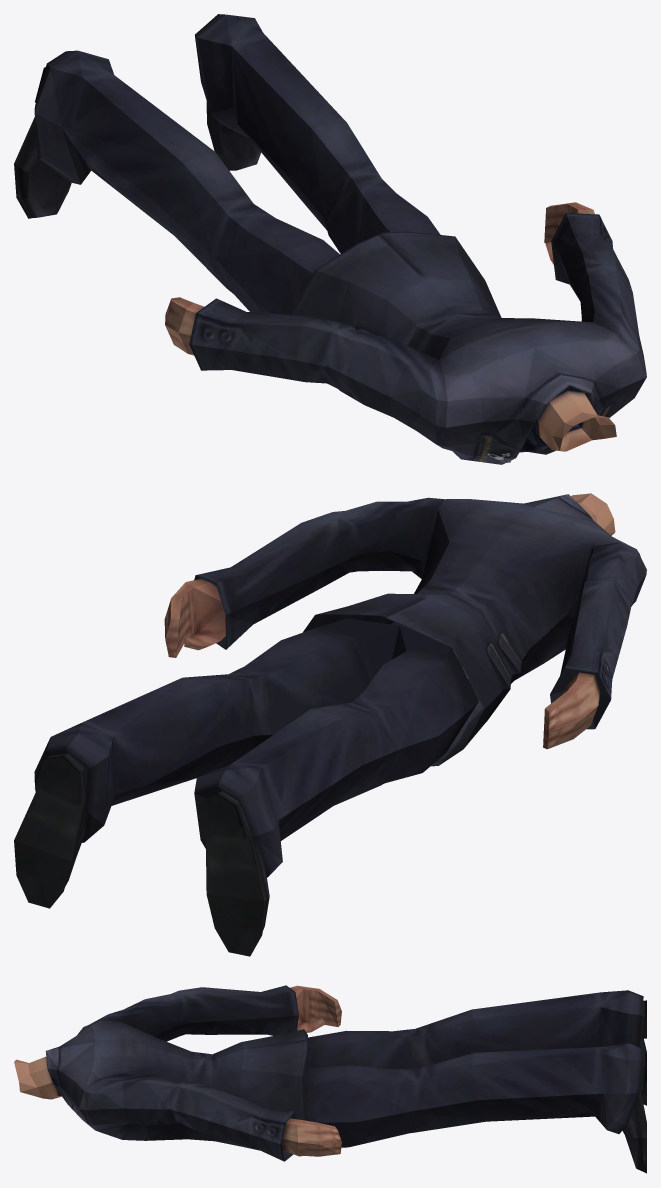
The model's file is common_dress_male_85211.obj.
3 views of the same model, one above another, from view 1: azimuth 30°, elevation 25°; view 2: azimuth 150°, elevation 25°; view 3: azimuth 270°, elevation 25° (orthographic). The views are drawn at different scales.
Visible parts, largest first — view 1: objObject02; view 2: objObject02; view 3: objObject02.
Part boxes in pixels (x1,y1,x2,y2): objObject02: (14, 14, 646, 464); objObject02: (14, 493, 646, 956); objObject02: (14, 985, 646, 1173).
Bounding box in the file's own units: 44.56 × 17.99 × 82.63.
Materials: 2 (2 with a texture image).
